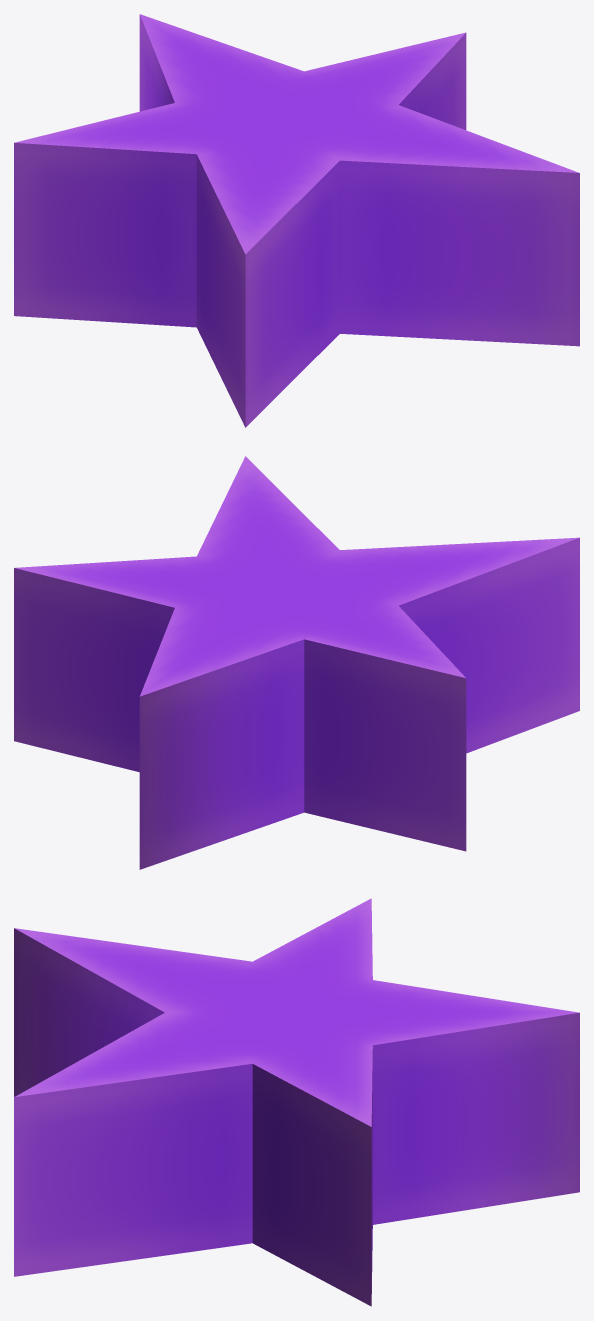
The model's file is jsf_ChocolateDecoration_02.fbx.
The picture shows the model from 3 angles, top to bottom: view 1: azimuth 30°, elevation 25°; view 2: azimuth 150°, elevation 25°; view 3: azimuth 270°, elevation 25°; orthographic projection. The views are drawn at different scales.
Visible parts, largest first — view 1: jsf_ChocolateDecoration_02; view 2: jsf_ChocolateDecoration_02; view 3: jsf_ChocolateDecoration_02.
Boxes of the visible parts, bbox=[...] form: jsf_ChocolateDecoration_02: bbox=[14, 14, 579, 427]; jsf_ChocolateDecoration_02: bbox=[14, 456, 579, 869]; jsf_ChocolateDecoration_02: bbox=[14, 898, 579, 1306].
Bounding box in the file's own units: 4.51 × 1.65 × 4.71.
